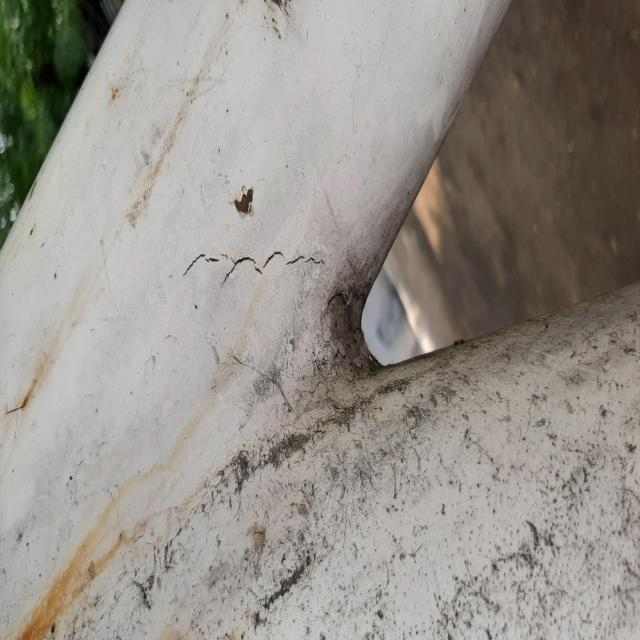defect: (175, 236, 333, 295)
